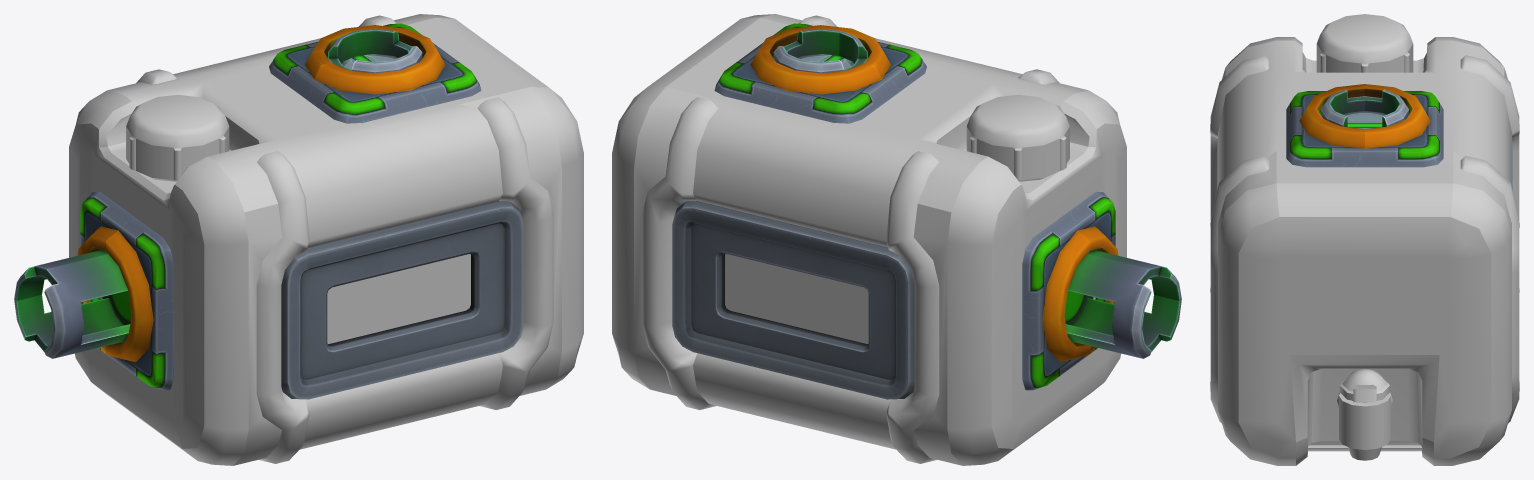
Rendered from obj_containers_water_pose1.fbx.
The picture shows the model from 3 angles, left to right: view 1: azimuth 30°, elevation 25°; view 2: azimuth 150°, elevation 25°; view 3: azimuth 270°, elevation 25°; orthographic projection. The views are drawn at different scales.
Parts seen in each view (by area): view 1: obj_containers_water_pose01; view 2: obj_containers_water_pose01; view 3: obj_containers_water_pose01.
Part boxes in pixels (box(x1,y1,x2,y2)): obj_containers_water_pose01: box(14, 14, 583, 465); obj_containers_water_pose01: box(612, 14, 1181, 465); obj_containers_water_pose01: box(1210, 14, 1519, 465).
Size of the model in its own units: 5.39 by 3.32 by 2.94.
